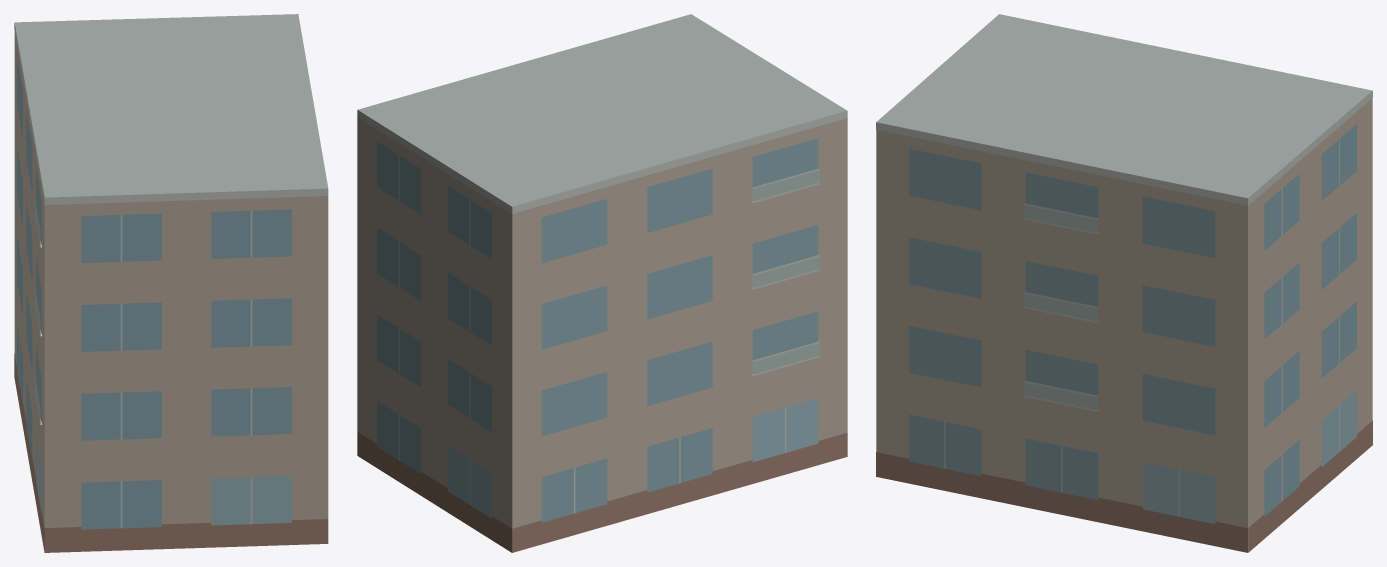
File: survey-upis-33023617.glb
3 renders of one model, left to right at view 1: azimuth 30°, elevation 25°; view 2: azimuth 150°, elevation 25°; view 3: azimuth 270°, elevation 25°, orthographic. The views are drawn at different scales.
Visible parts, largest first — view 1: survey-upis-33023617.tmp; view 2: survey-upis-33023617.tmp; view 3: survey-upis-33023617.tmp.
Boxes of the visible parts, x1,y1,x2,y2 form: survey-upis-33023617.tmp: (14,14,328,552); survey-upis-33023617.tmp: (357,14,847,552); survey-upis-33023617.tmp: (876,14,1372,552).
Size of the model in its own units: 13.05 by 11.7 by 14.86.
